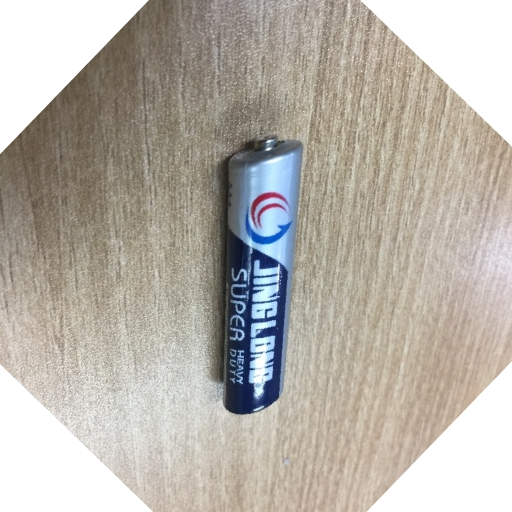Battery_0: (215, 121, 320, 427)
